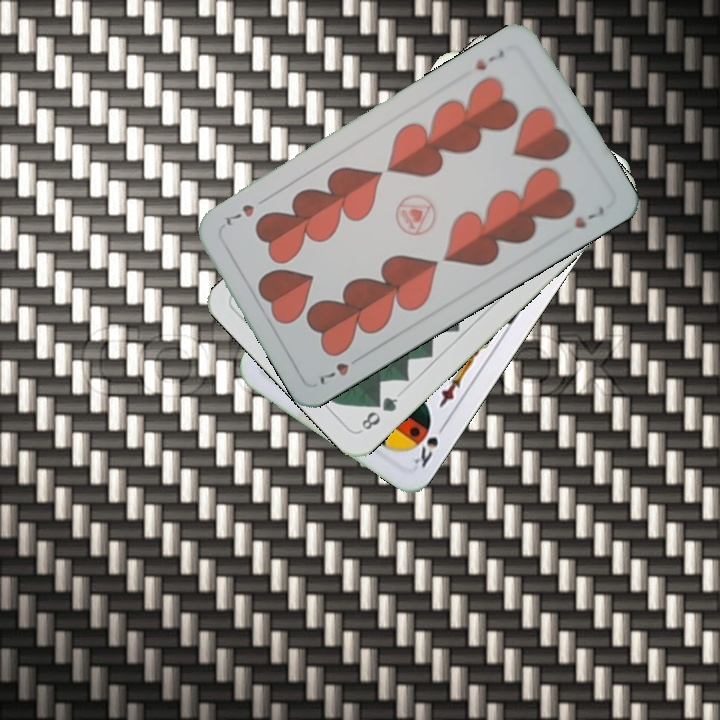G8: (357, 392, 401, 433)
H7: (315, 351, 366, 388), (472, 46, 507, 73)
SK: (409, 418, 450, 471)
